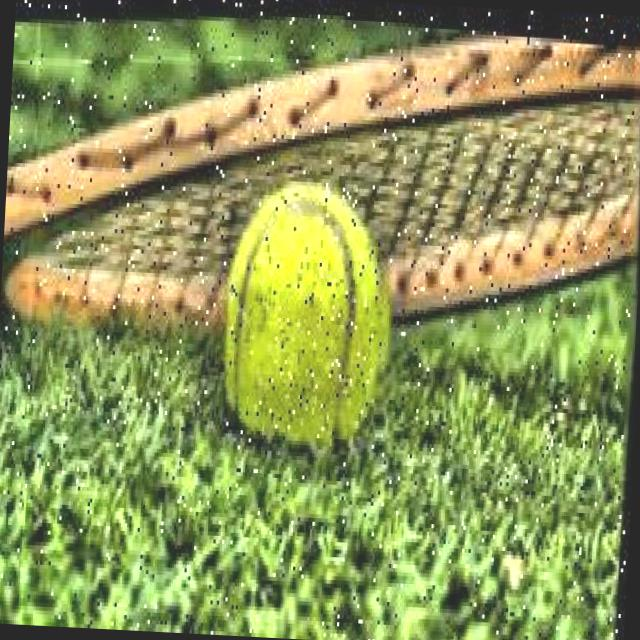tennis-ball: (213, 165, 403, 475)
